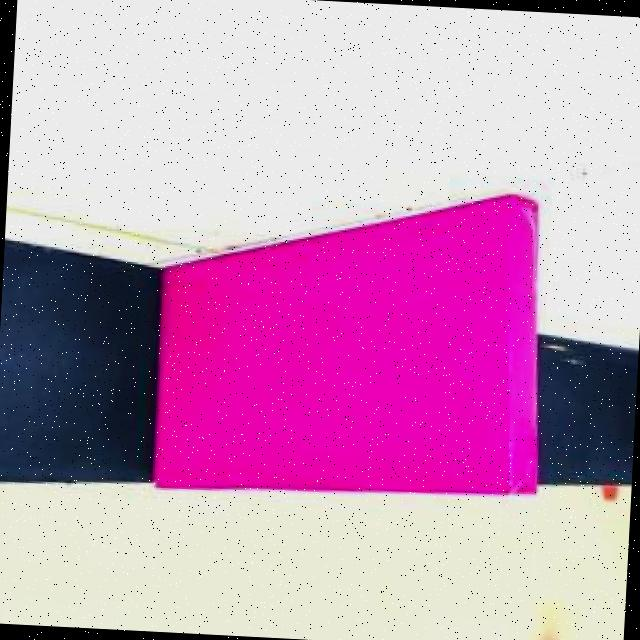xparking: (153, 264, 543, 492)
